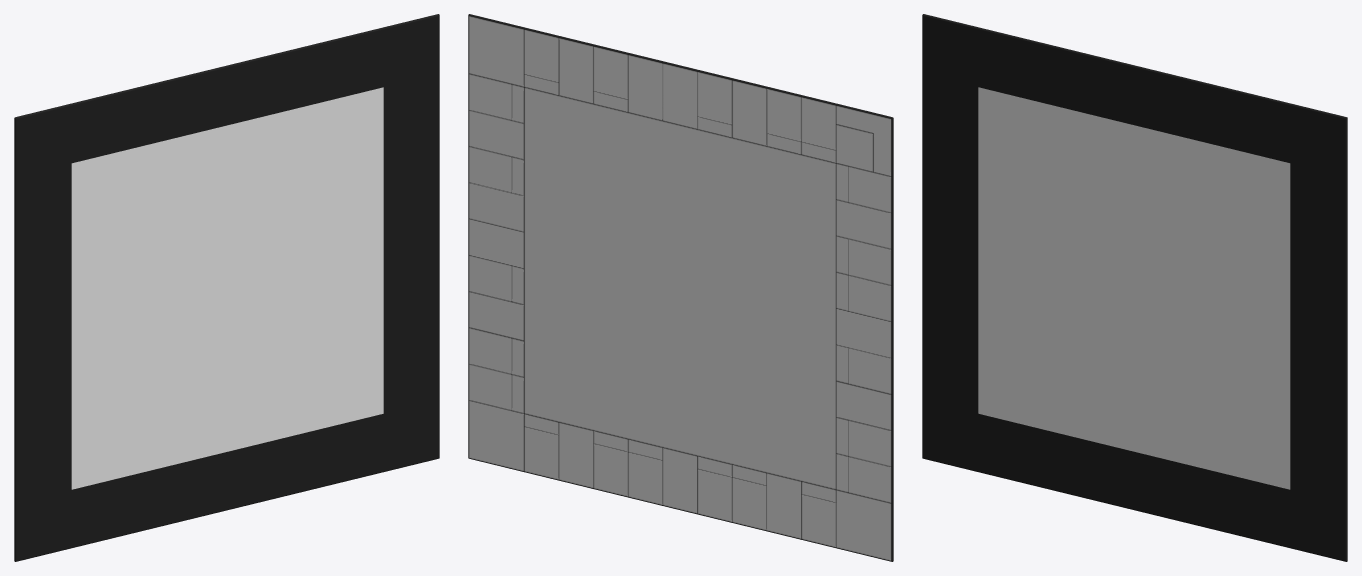
Rendered from Boardv8.fbx.
3 renders of one model, left to right at view 1: azimuth 30°, elevation 25°; view 2: azimuth 150°, elevation 25°; view 3: azimuth 330°, elevation 25°, orthographic.
Visible parts, largest first — view 1: Center, JailVisit, Go, Parking, GoToJail, Property.002, Property.003, Property.005, Property.008, PotLuck.002, Station.002, Property.007 (+29 smaller); view 2: Center, JailVisit, Go, Parking, GoToJail, Property.002, Property.003, Property.005, Property.008, PotLuck.002, Station.002, Property.007 (+29 smaller); view 3: Center, Go, JailVisit, GoToJail, Parking, Chance.001, Property.001, IncomeTax, Chance.003, PotLuck.003, Station.004, Property.019 (+29 smaller).
Boxes of the visible parts, x1,y1,x2,y2 form: Center: (71, 87, 383, 489); JailVisit: (14, 103, 71, 176); Go: (383, 14, 439, 86); Parking: (14, 490, 71, 561); GoToJail: (383, 400, 439, 471); Property.002: (279, 44, 314, 112); Property.003: (175, 70, 210, 137); Property.005: (71, 95, 106, 163); Property.008: (14, 272, 71, 321); PotLuck.002: (14, 381, 71, 430); Station.002: (14, 308, 71, 358); Property.007: (14, 236, 71, 285); Center: (524, 87, 836, 489); JailVisit: (836, 103, 893, 176); Go: (468, 14, 524, 86); Parking: (836, 490, 893, 561); GoToJail: (468, 400, 524, 471); Property.002: (593, 44, 628, 112); Property.003: (697, 70, 732, 137); Property.005: (801, 95, 836, 163); Property.008: (836, 272, 893, 321); PotLuck.002: (836, 381, 893, 430); Station.002: (836, 308, 893, 358); Property.007: (836, 236, 893, 285); Center: (978, 87, 1290, 489); Go: (1290, 103, 1347, 176); JailVisit: (922, 14, 978, 86); GoToJail: (1290, 490, 1347, 561); Parking: (922, 400, 978, 471); Chance.001: (1047, 44, 1082, 112); Property.001: (1255, 95, 1290, 162); IncomeTax: (1151, 70, 1186, 137); Chance.003: (1290, 272, 1347, 321); PotLuck.003: (1290, 381, 1347, 430); Station.004: (1290, 308, 1347, 358); Property.019: (1290, 417, 1347, 466).
Bounding box in the file's own units: 196 × 196 × 1.2.
Materials: 3 (3 with a texture image).
